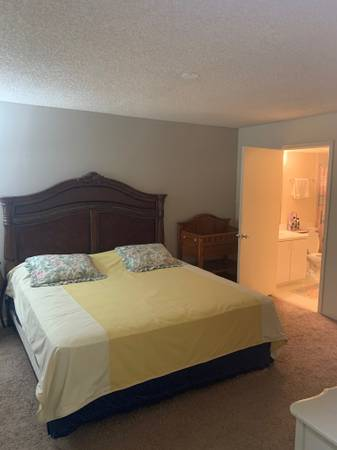bed: (2, 179, 273, 439)
night stand: (178, 216, 239, 278)
